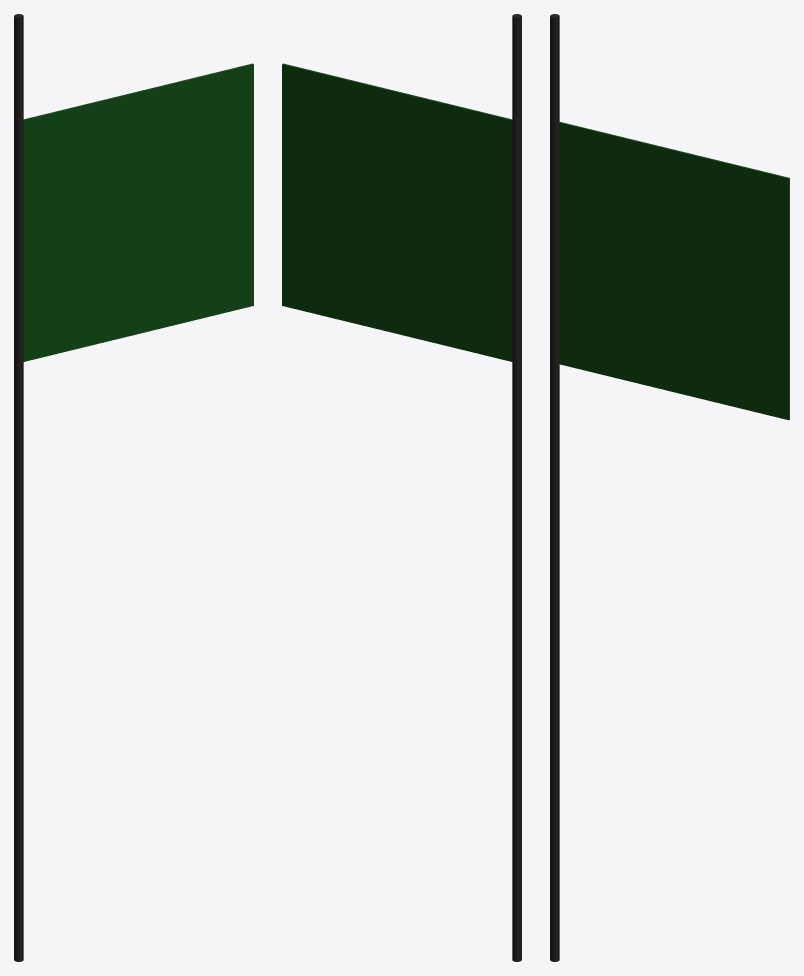
File: Flag.dae
3 renders of one model, left to right at view 1: azimuth 30°, elevation 25°; view 2: azimuth 150°, elevation 25°; view 3: azimuth 330°, elevation 25°, orthographic.
Visible parts, largest first — view 1: pCylinder2; view 2: pCylinder2; view 3: pCylinder2.
Part boxes in pixels (x1,y1,x2,y2): pCylinder2: (14, 14, 253, 961); pCylinder2: (282, 14, 521, 961); pCylinder2: (550, 14, 789, 961).
Bounding box in the file's own units: 4.79 × 18.09 × 0.1695.
